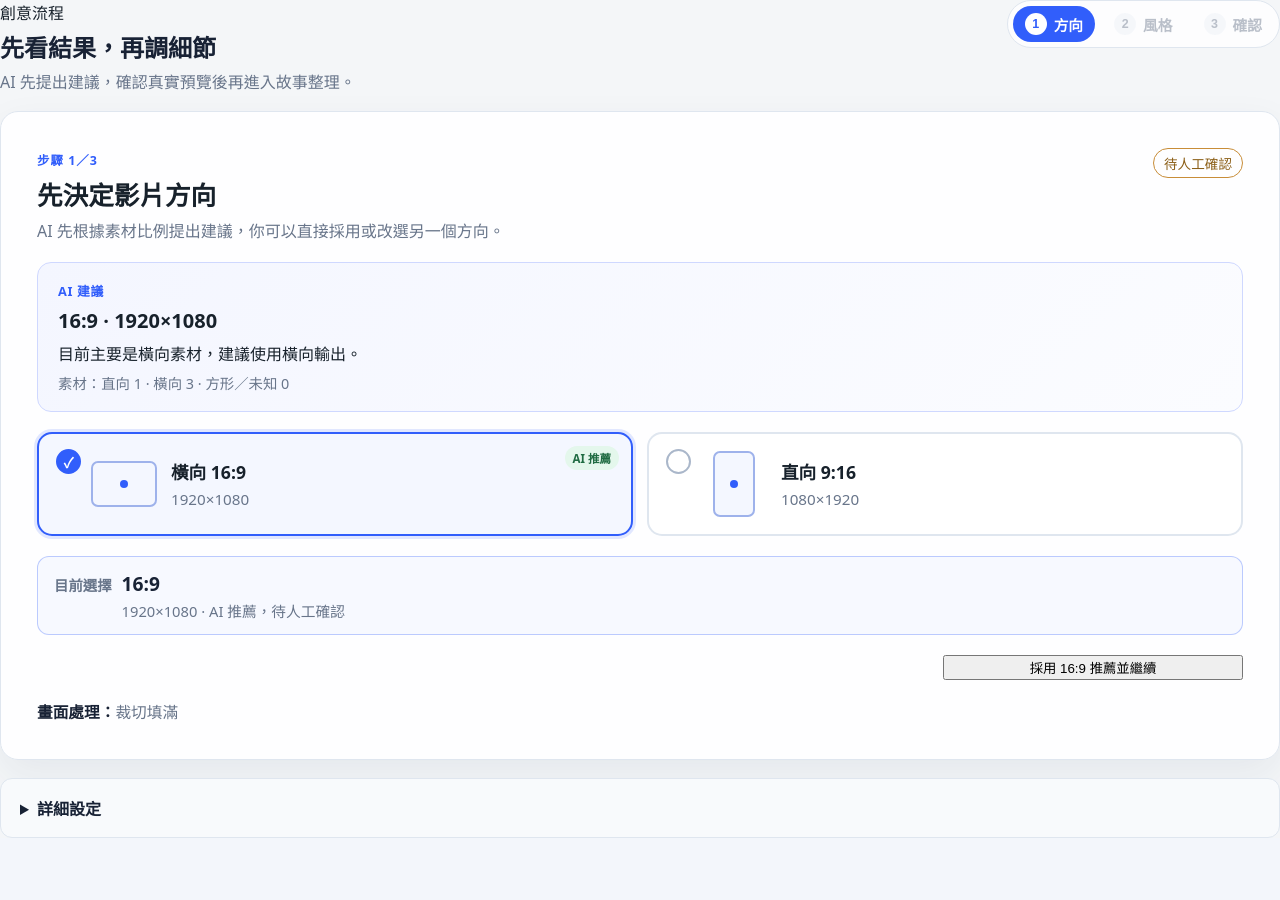
Scenario: CreativeFlowWorkspace › stays on Step 1 and shows a visible error when saving fails
Click the button "採用 16:9 推薦並繼續".
click(1093, 668)  # box [943,655,1243,680]
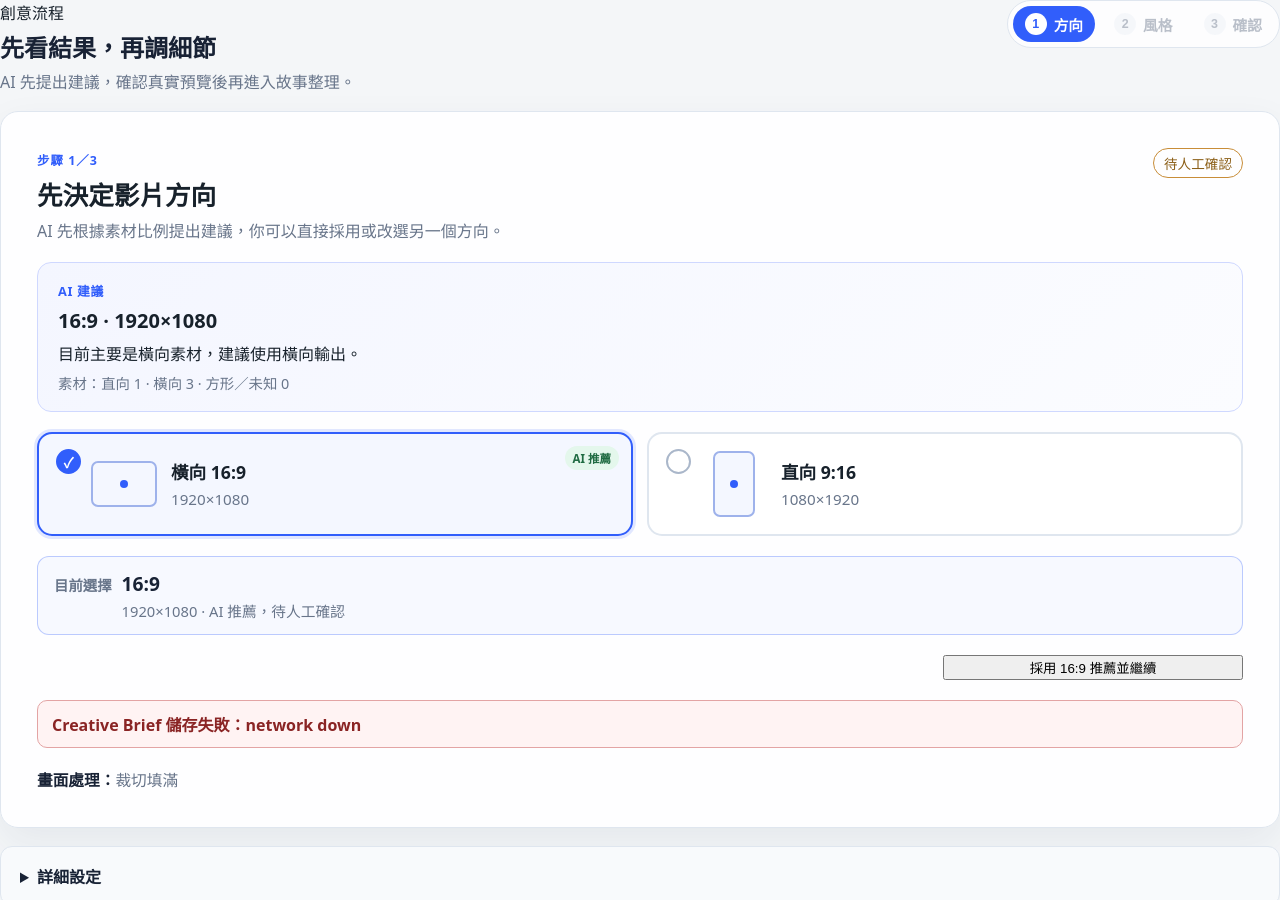
Check: the heading "先決定影片方向" is shown, box [37,178,216,213]
Check: the message shows "Creative Brief 儲存失敗", box [52,714,361,736]
